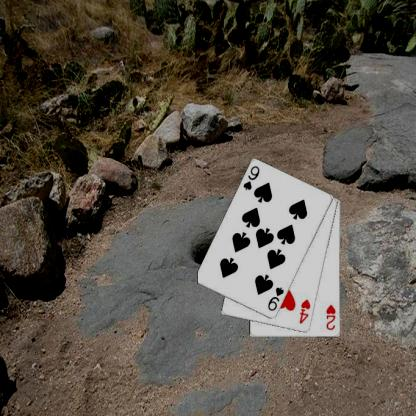2H: (324, 302, 337, 332)
4H: (296, 297, 312, 325)
9S: (240, 164, 261, 192), (266, 285, 286, 312)
